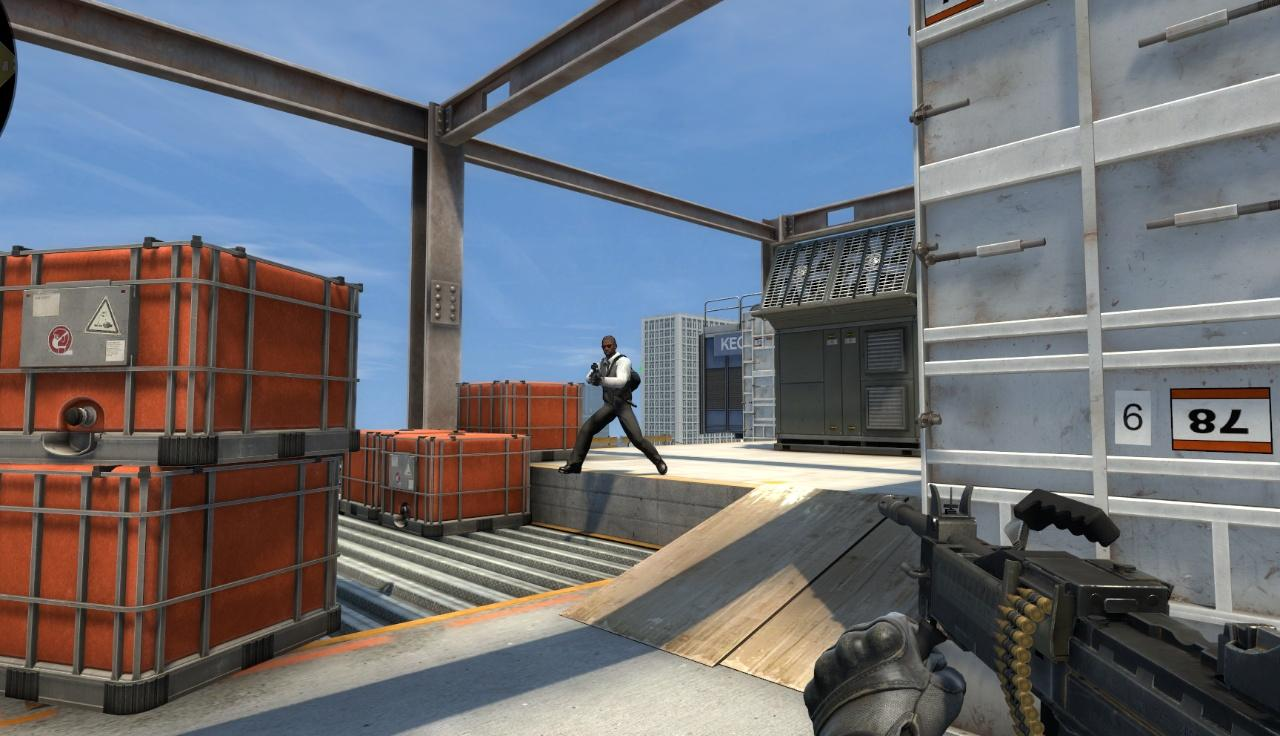rifle: (836, 482, 1276, 734)
tt: (558, 335, 659, 477)
tthead: (602, 335, 617, 357)
